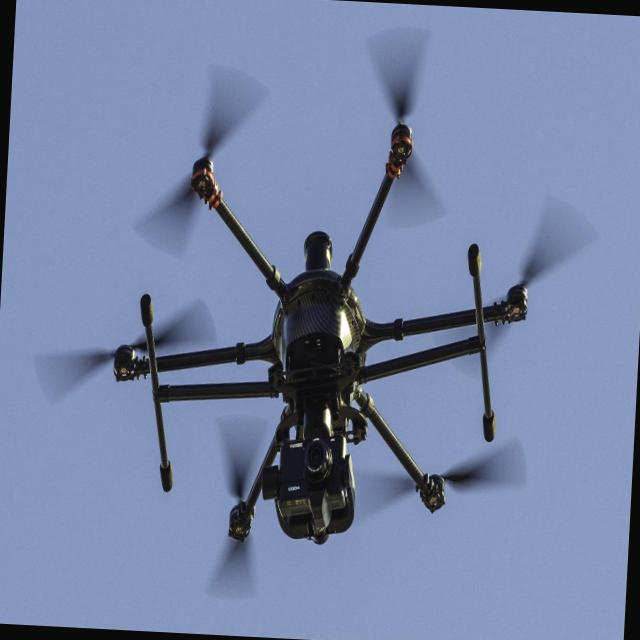drone: (104, 100, 540, 559)
